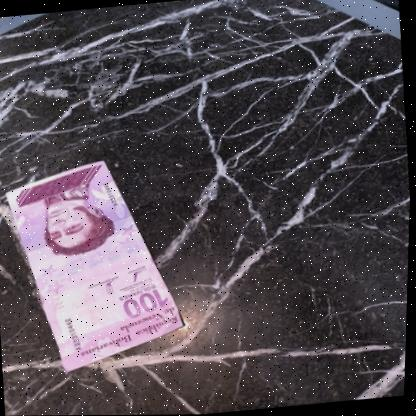one_hundred-front-vef: (0, 152, 194, 377)
